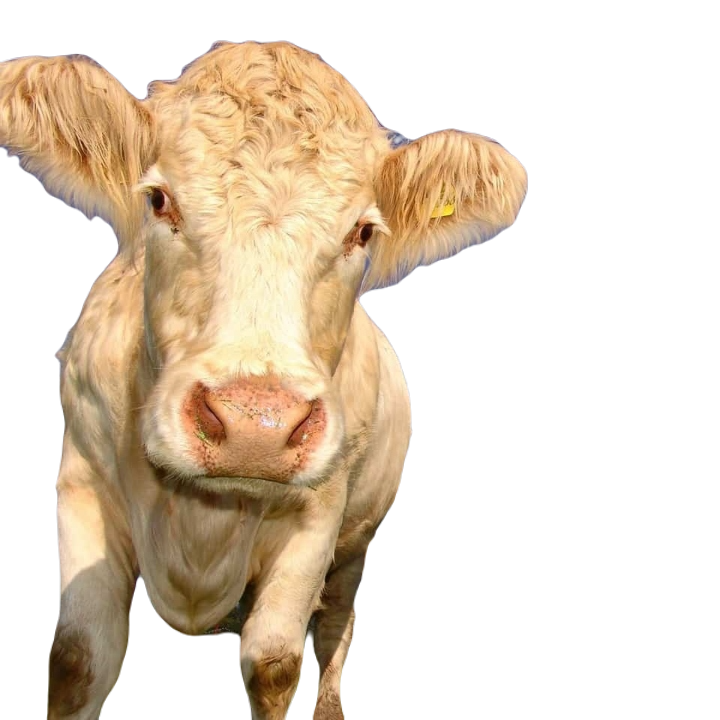Cow: (0, 39, 528, 717)
